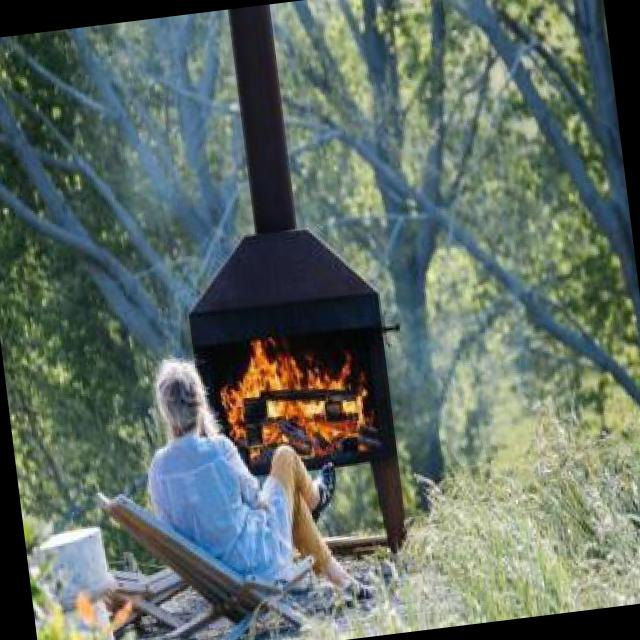Fire: (207, 317, 380, 481)
